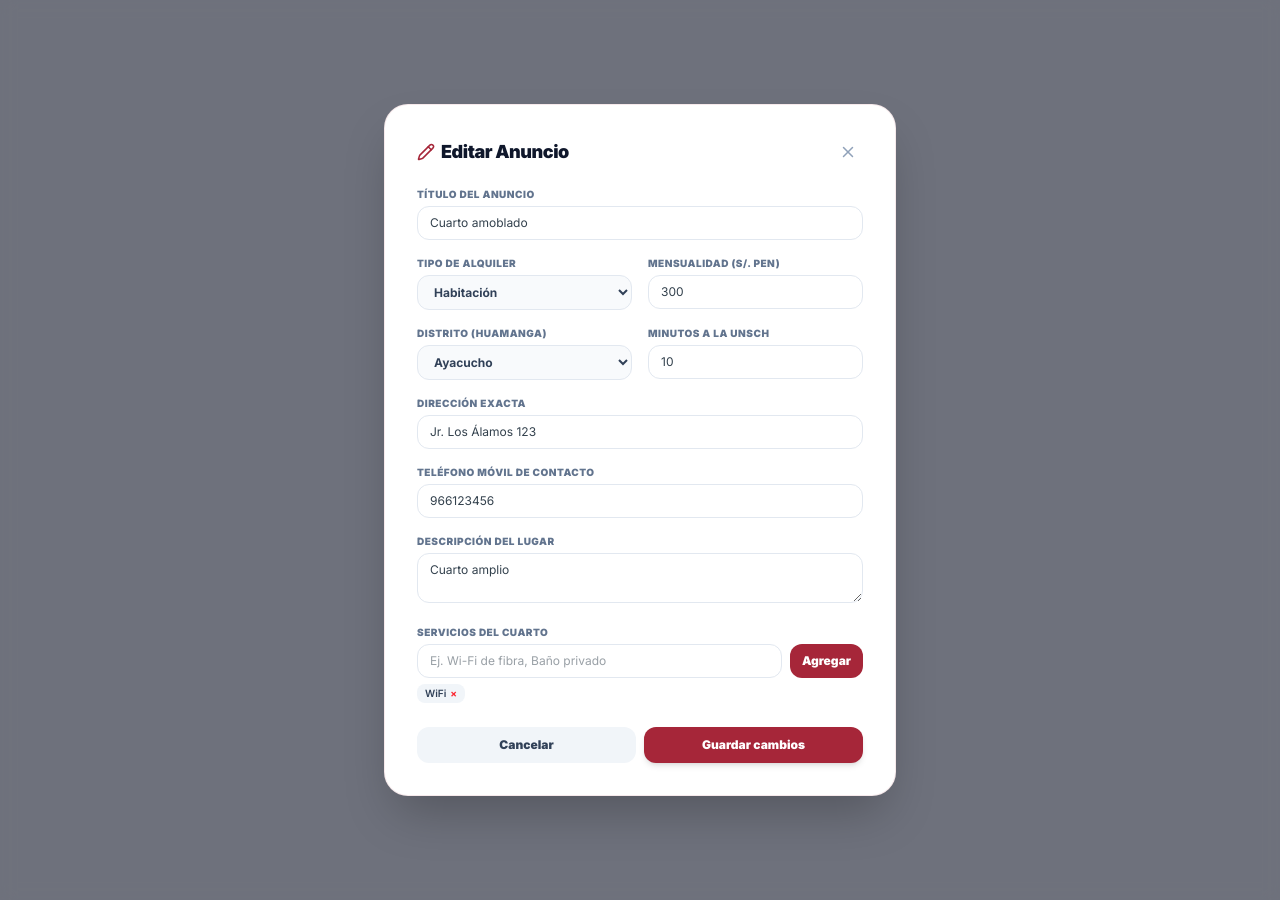
Test: EditListingModal › permite agregar y quitar un servicio (amenity)
Type "Agua caliente" into the field with placeholder "Ej. Wi-Fi de fibra, Baño privado" at coordinates (600, 661), box [417,644,782,678]
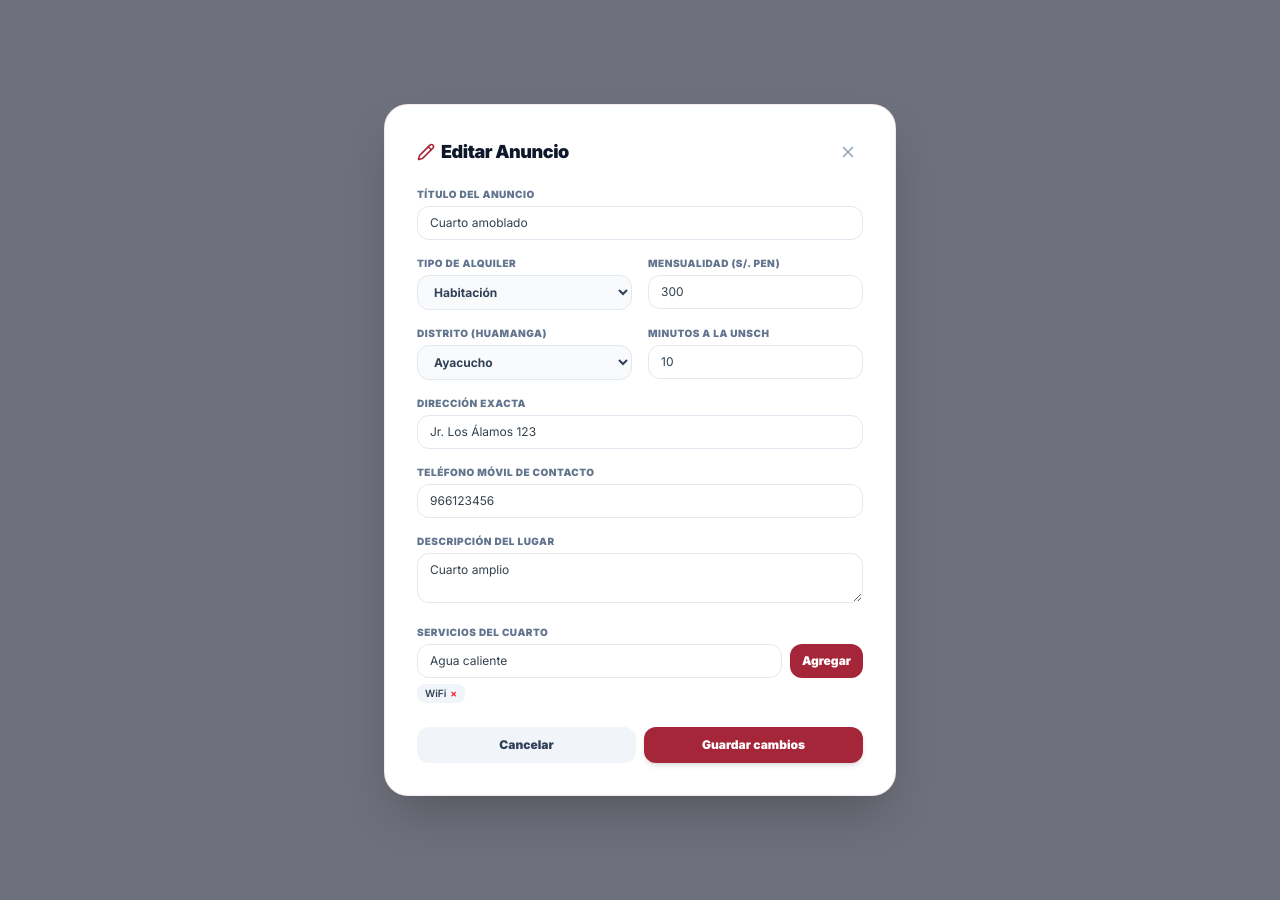
Click the button "Agregar" at coordinates (826, 661), box [790,644,863,678]
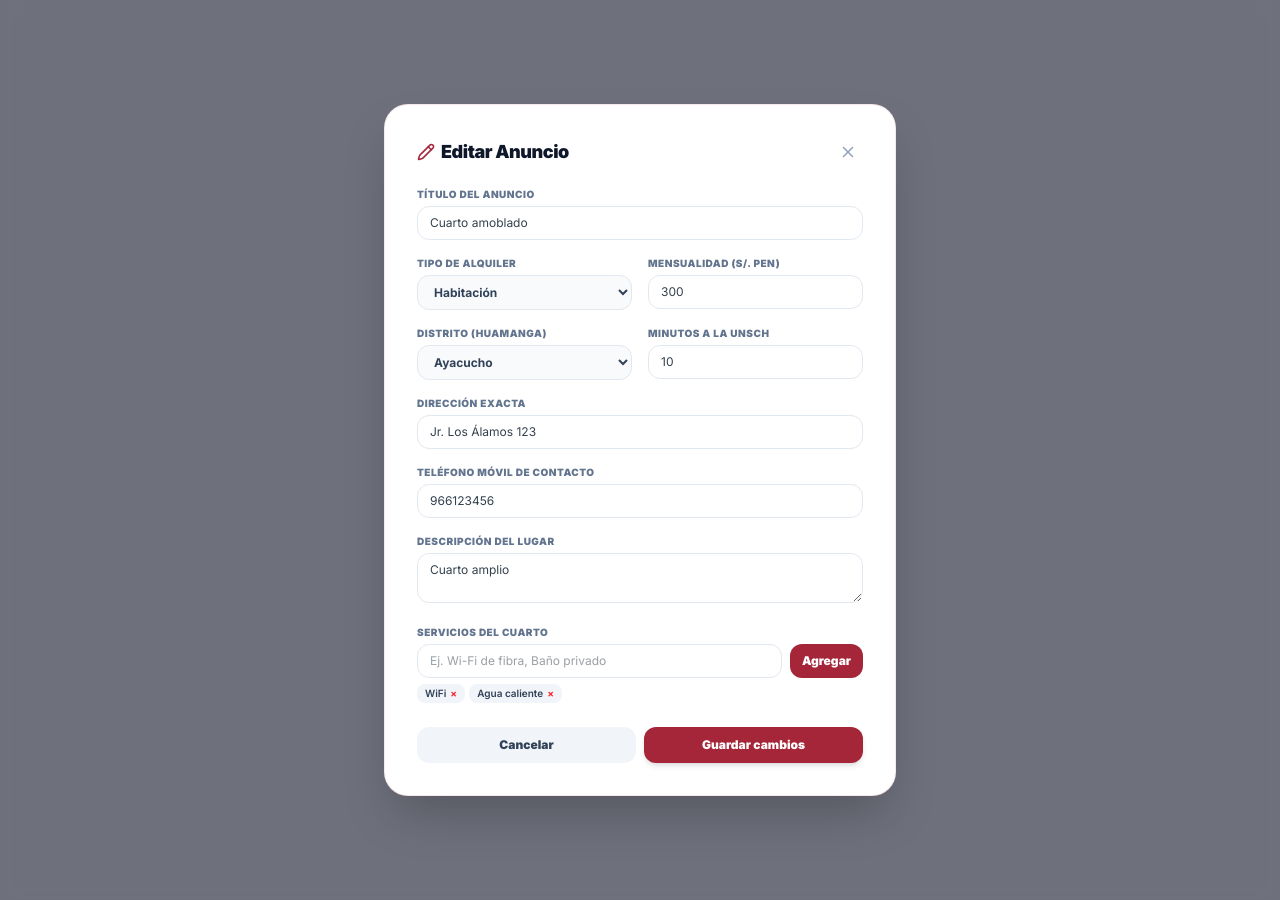
Expected: the text "Agua caliente" is shown, [477,686,543,701]
Click the button "×" next to "Agua caliente" at coordinates (551, 694), box [547,686,554,701]
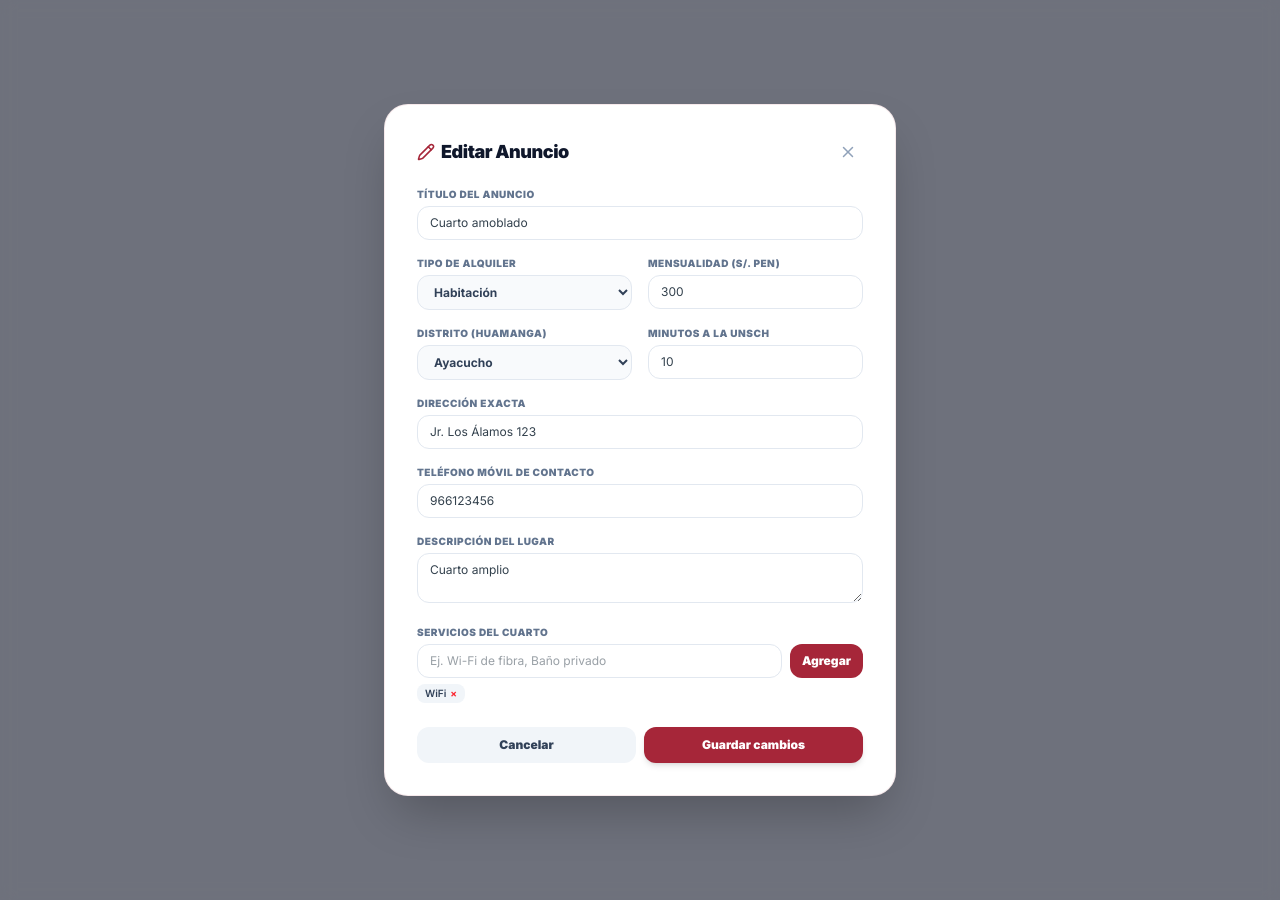
Expected: the text "Agua caliente" is gone
